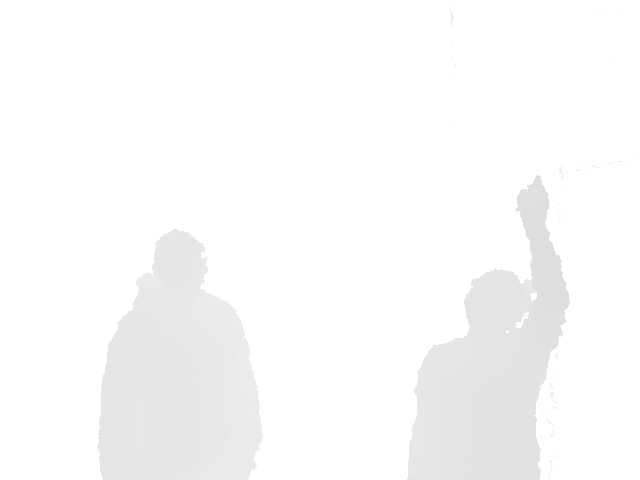hand: (517, 176, 550, 226)
head: (463, 268, 526, 340), (152, 229, 207, 299)
person: (405, 176, 571, 480), (96, 229, 264, 480)
